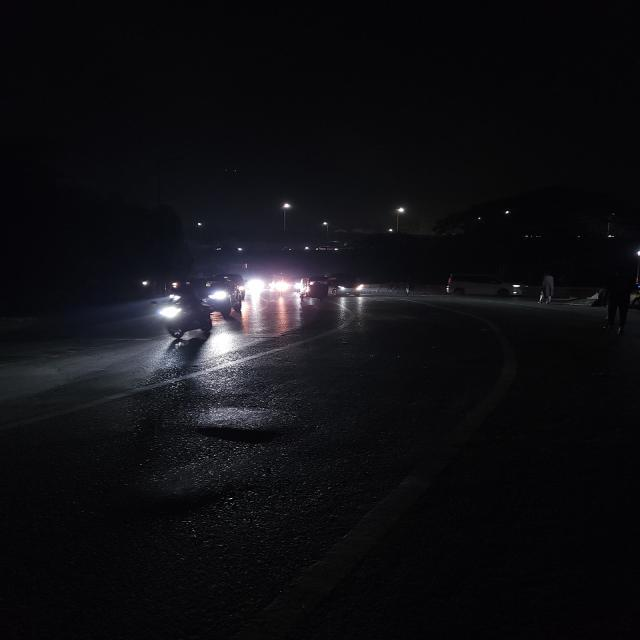bicycle: (384, 278, 401, 296)
car: (438, 270, 527, 299), (208, 277, 245, 316), (331, 274, 370, 298)
cng: (293, 274, 332, 302)
motorcycle: (150, 282, 213, 341)
pedestrian: (534, 271, 559, 305)
rickshaw: (597, 263, 627, 341)
